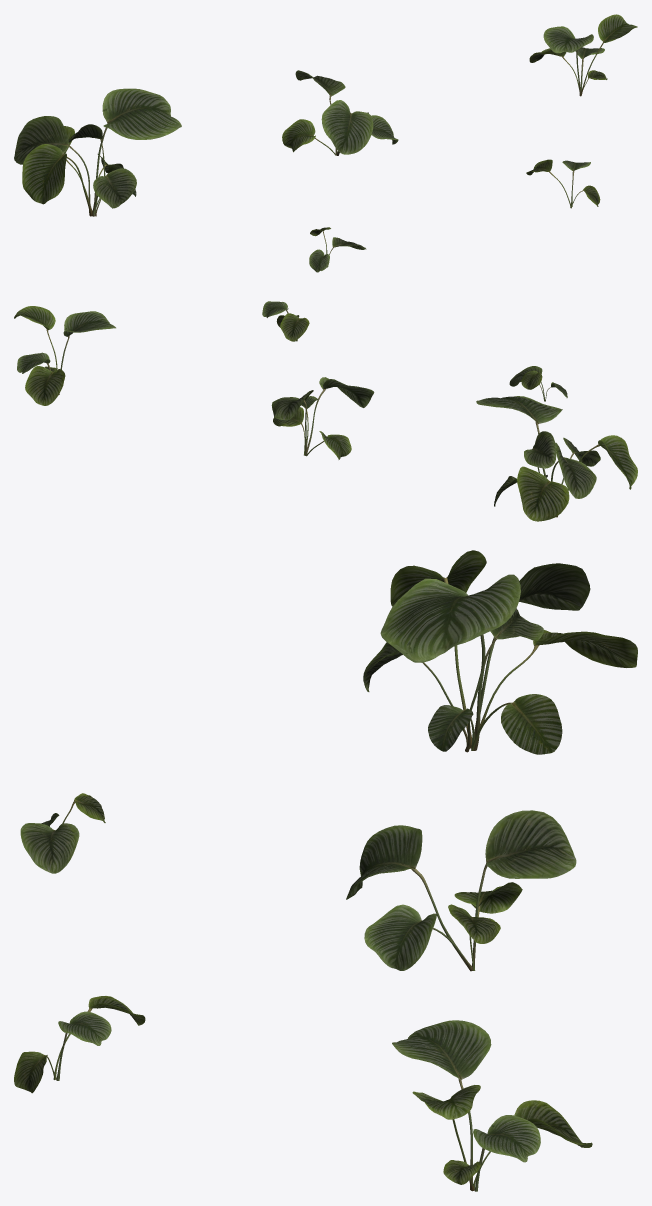
Rendered from calathea.glb.
3 renders of one model, top to bottom at view 1: azimuth 30°, elevation 25°; view 2: azimuth 150°, elevation 25°; view 3: azimuth 270°, elevation 25°, orthographic. The views are drawn at different scales.
Parts seen in each view (by area): view 1: calathea_orbifolia_01_a, calathea_orbifolia_01_b, calathea_orbifolia_01_c, calathea_orbifolia_01_e, calathea_orbifolia_01_d; view 2: calathea_orbifolia_01_a, calathea_orbifolia_01_c, calathea_orbifolia_01_b, calathea_orbifolia_01_e, calathea_orbifolia_01_d; view 3: calathea_orbifolia_01_a, calathea_orbifolia_01_b, calathea_orbifolia_01_c, calathea_orbifolia_01_e, calathea_orbifolia_01_d.
Part boxes in pixels (bbox=[...]): calathea_orbifolia_01_a: bbox=[14, 88, 181, 216]; calathea_orbifolia_01_b: bbox=[282, 70, 398, 155]; calathea_orbifolia_01_c: bbox=[529, 14, 637, 96]; calathea_orbifolia_01_e: bbox=[526, 159, 600, 208]; calathea_orbifolia_01_d: bbox=[309, 227, 366, 272]; calathea_orbifolia_01_a: bbox=[476, 396, 637, 521]; calathea_orbifolia_01_c: bbox=[14, 306, 115, 405]; calathea_orbifolia_01_b: bbox=[271, 377, 374, 459]; calathea_orbifolia_01_e: bbox=[262, 301, 309, 341]; calathea_orbifolia_01_d: bbox=[509, 366, 567, 401]; calathea_orbifolia_01_a: bbox=[363, 550, 637, 754]; calathea_orbifolia_01_b: bbox=[346, 810, 576, 971]; calathea_orbifolia_01_c: bbox=[392, 1020, 592, 1191]; calathea_orbifolia_01_e: bbox=[14, 996, 145, 1093]; calathea_orbifolia_01_d: bbox=[20, 793, 105, 873].
Size of the model in its own units: 2.49 by 0.4243 by 1.19.
Materials: 1 (1 with a texture image).
